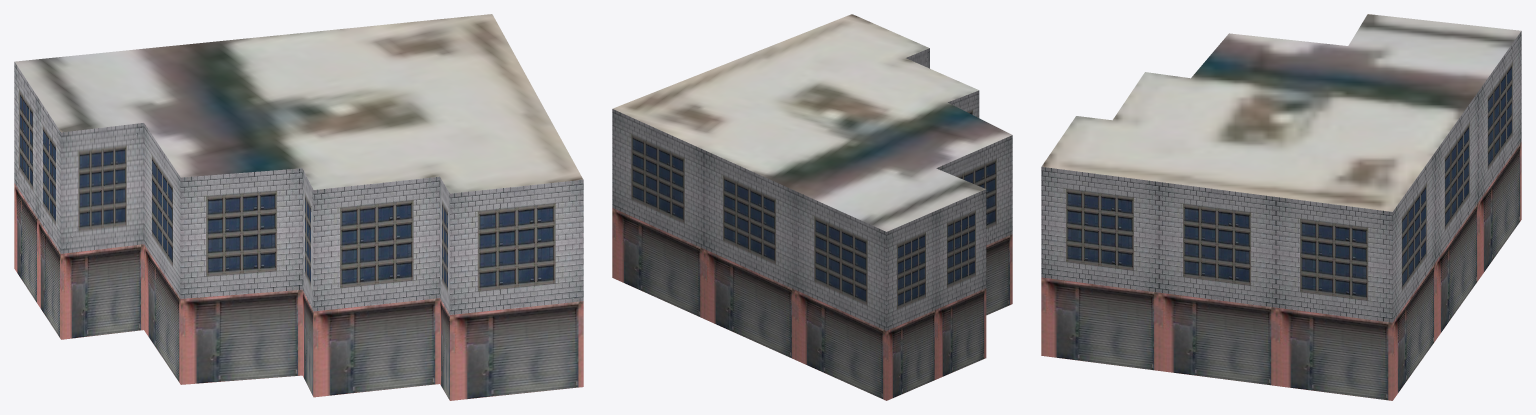
3 views of the same model, side by side, from view 1: azimuth 30°, elevation 25°; view 2: azimuth 150°, elevation 25°; view 3: azimuth 270°, elevation 25° (orthographic). The views are drawn at different scales.
Visible parts, largest first — view 1: SketchUp (×17); view 2: SketchUp (×8); view 3: SketchUp (×5).
Part boxes in pixels (x1,y1,x2,y2): SketchUp (×17): [14, 14, 583, 400]; SketchUp (×8): [612, 14, 1012, 400]; SketchUp (×5): [1041, 14, 1521, 400].
Bounding box in the file's own units: 17.88 × 18.33 × 7.96.
3 materials, 3 textured.
